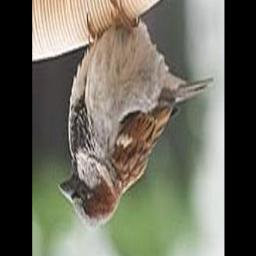Sparrow: (58, 0, 213, 230)
